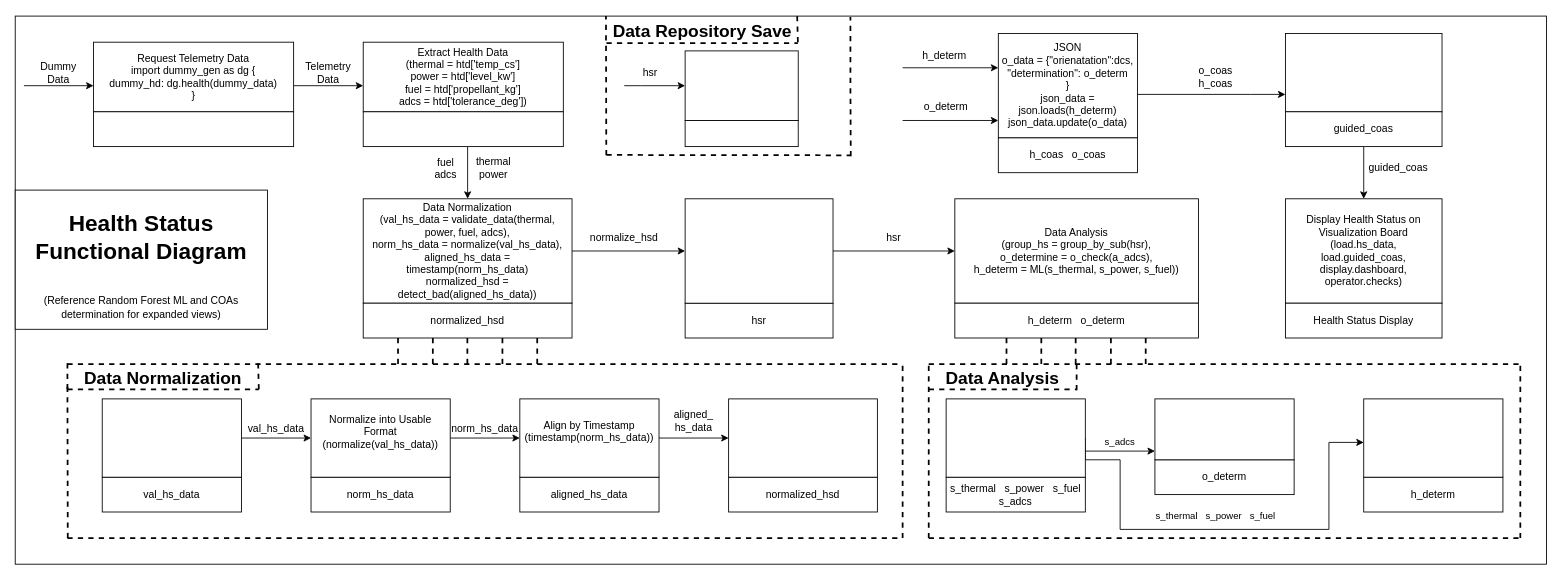
The diagram is 1562 pixels wide and 579 high, and some of its shapes have lost their labels. The shapes that lost their labels are listed below. From the top down, each one's centre as x and y in pixels, then its label:
At [741,85]: "Save to Data Repository (json.dump(hsr )".
At [1363,72]: "COAs Determination guided_coas = CD(o_coas, h_coas)".
At [193,129]: "htd".
At [462,129]: "thermal power fuel adcs".
At [741,133]: "hs_data.json".
At [758,250]: "Generate Health State Record hsr = generate_hs(normalize_hsd)".
At [171,437]: "Validate Data (validate_data(thermal, power, fuel, adcs))".
At [802,437]: "Flag Bad Data (detect_bad( aligned_hs_data ))".
At [1015,437]: "Divide into Subsystems (group_by_sub(hsr ))".
At [1224,429]: "Orientation Check (o_check(s_adcs))".
At [1433,437]: "Random Forest Machine Learning ML(s_thermal, s_power, s_fuel)".
